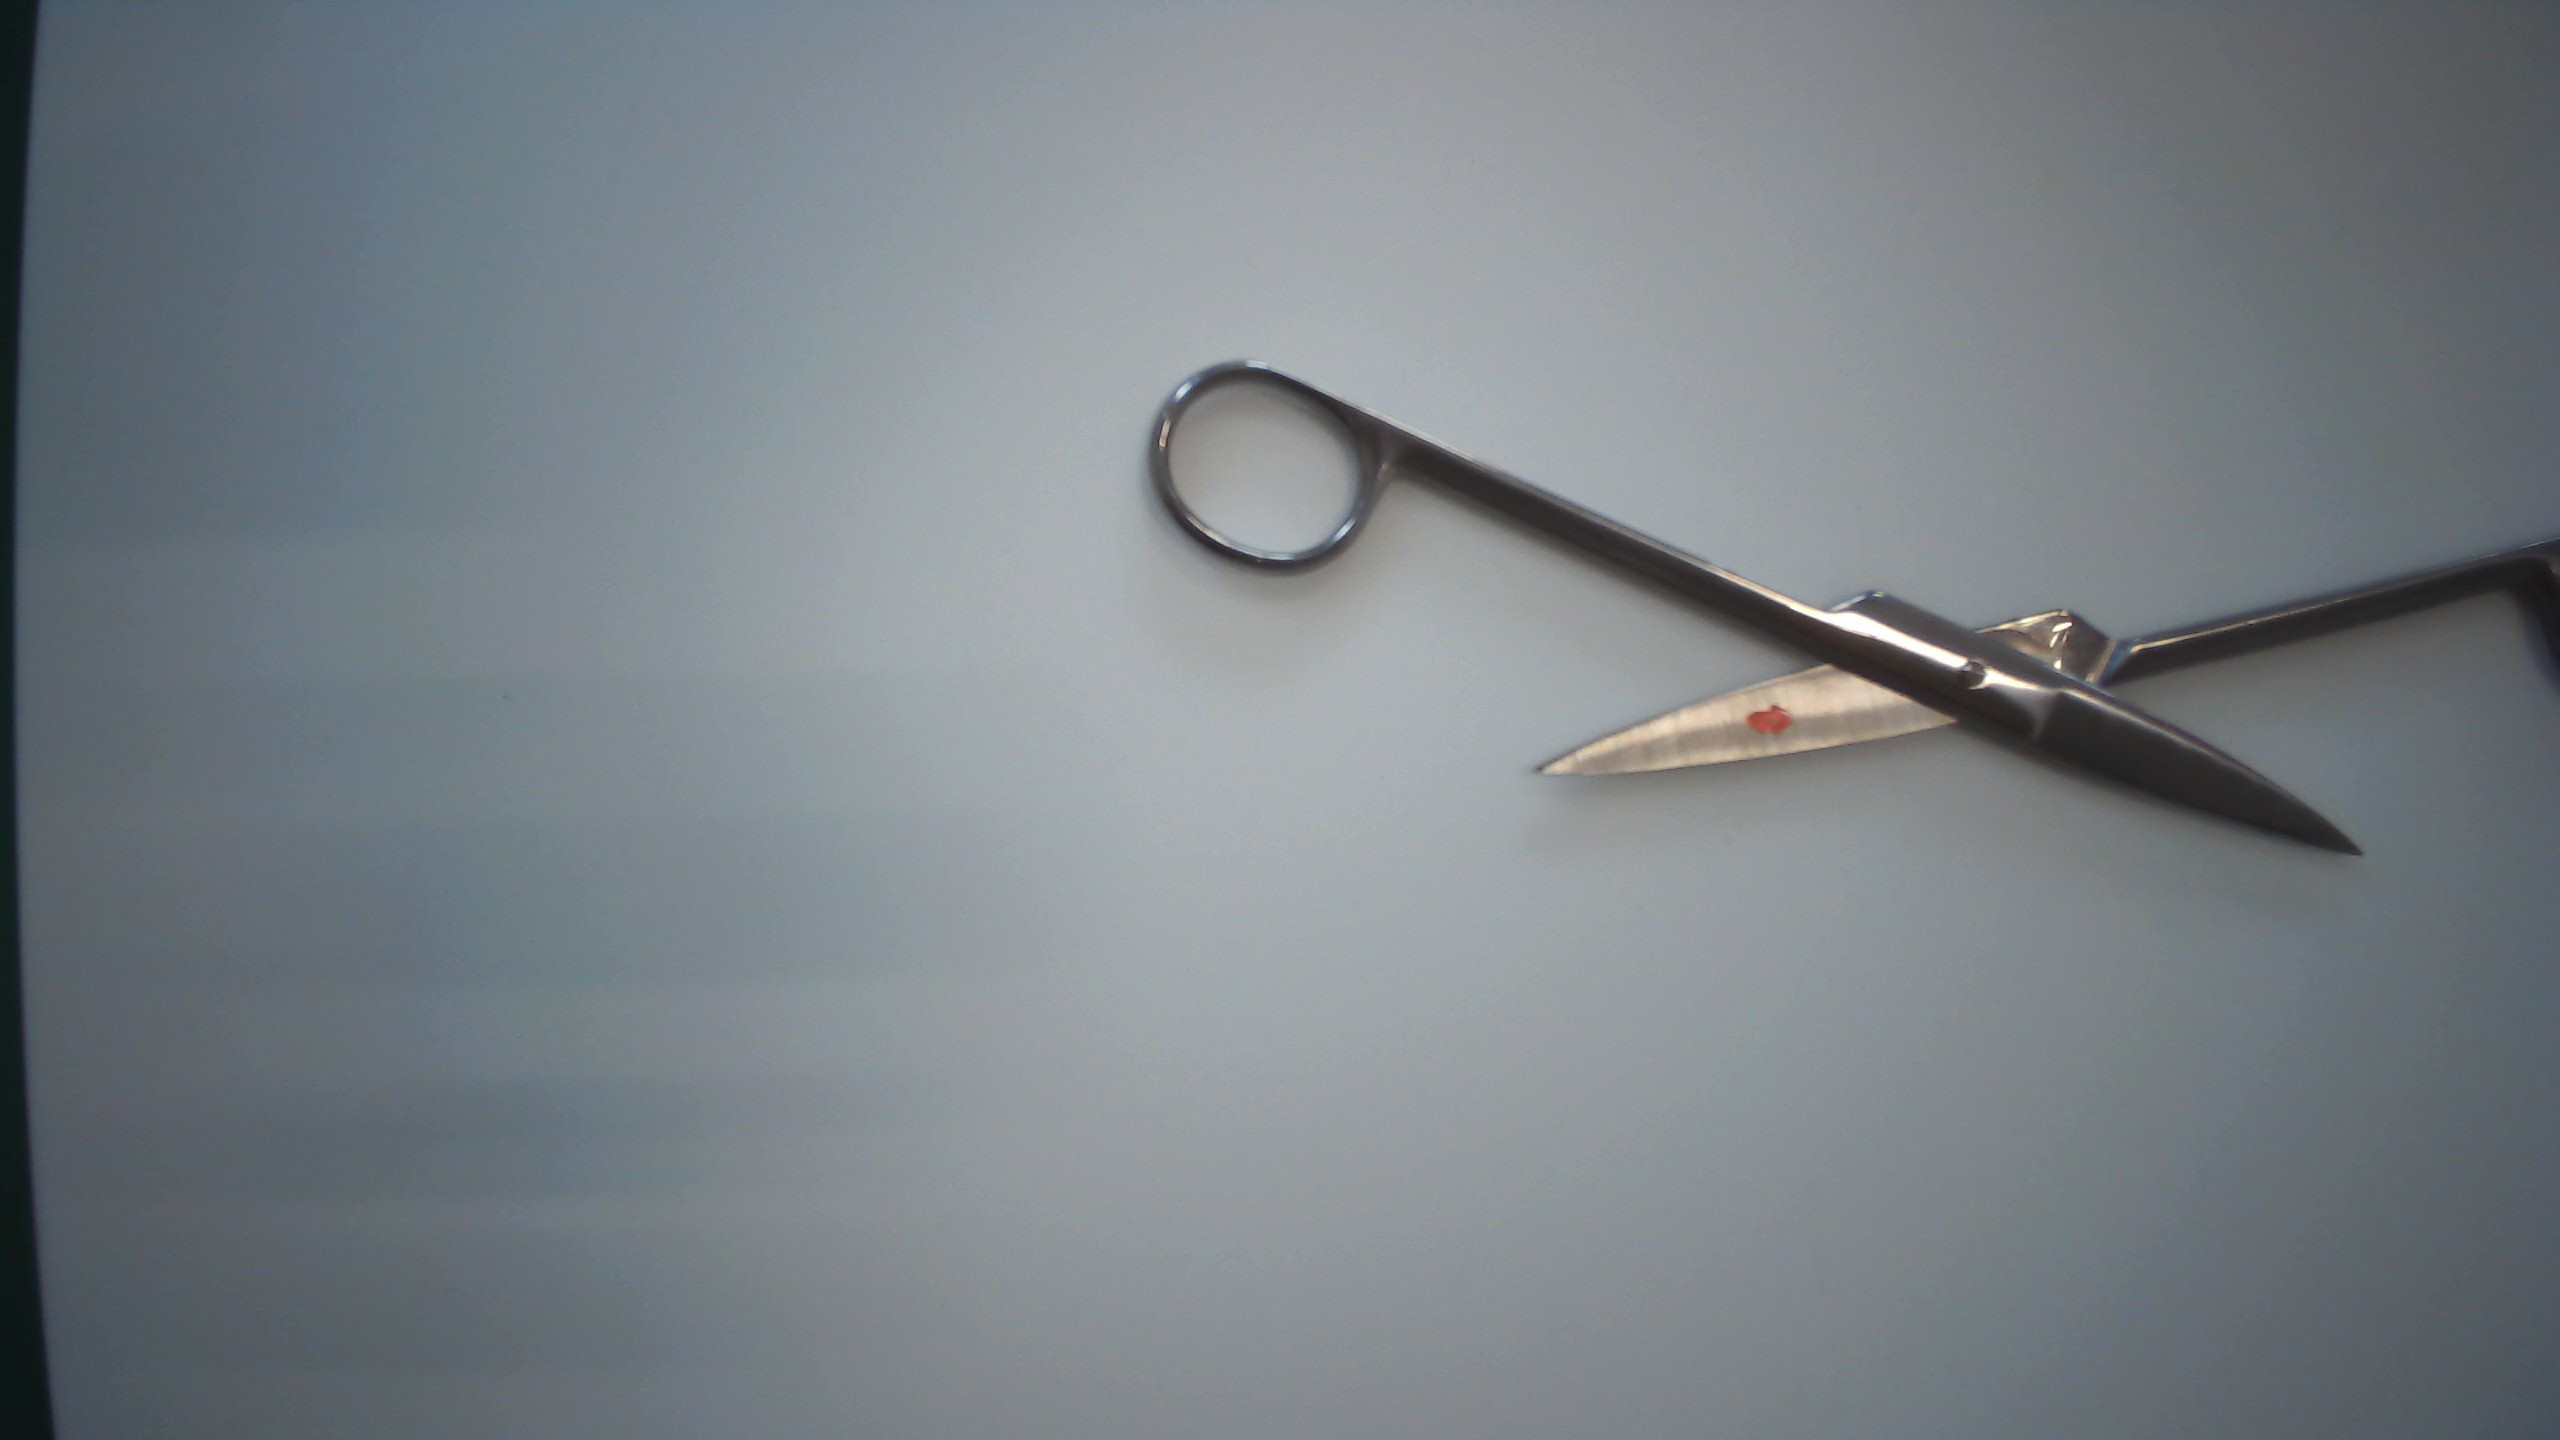Stain: (1735, 702, 1799, 738)
